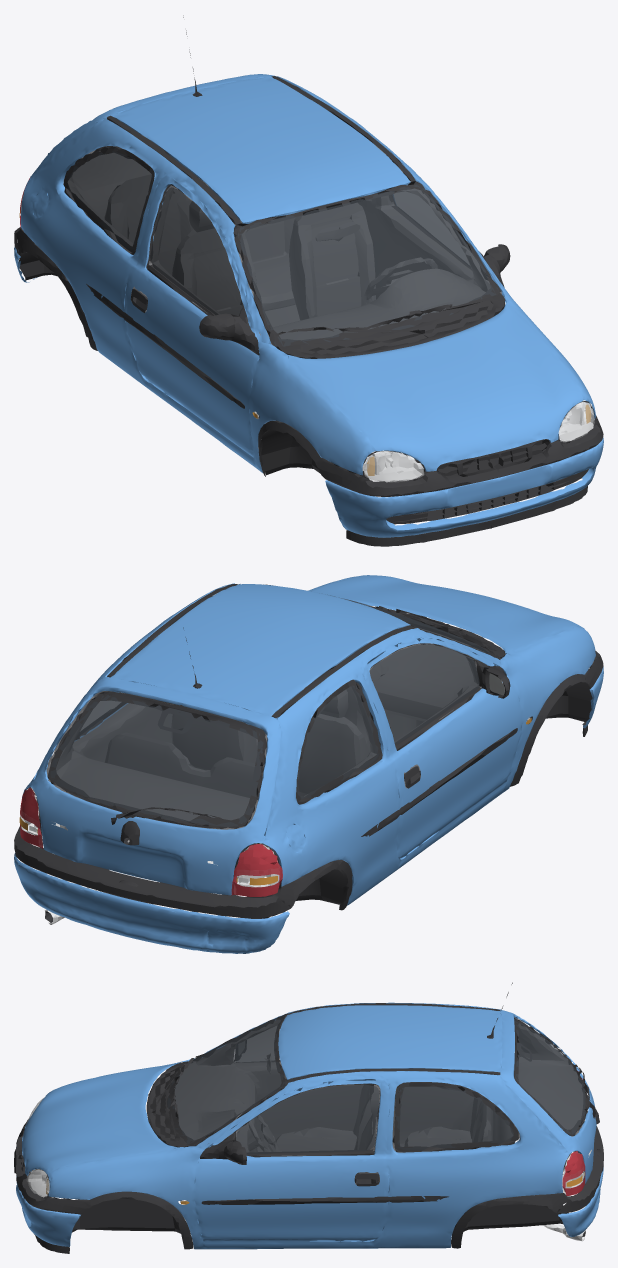
File: corsa.glb
3 views of the same model, one above another, from view 1: azimuth 30°, elevation 25°; view 2: azimuth 150°, elevation 25°; view 3: azimuth 270°, elevation 25° (orthographic). The views are drawn at different scales.
Parts seen in each view (by area): view 1: PAINT, GLASS, interior, black, LUZ_glass, chrome; view 2: PAINT, GLASS, interior, black, TAIL, chrome; view 3: PAINT, GLASS, interior, black, chrome, TAIL, LUZ_glass.
Part boxes in pixels (box(x1,y1,x2,y2)): PAINT: box(14, 74, 603, 537); GLASS: box(67, 145, 498, 346); interior: box(63, 135, 501, 423); black: box(14, 15, 603, 546); LUZ_glass: box(363, 401, 594, 482); chrome: box(21, 195, 593, 481); PAINT: box(14, 575, 603, 953); GLASS: box(50, 595, 497, 826); interior: box(46, 628, 483, 863); black: box(14, 584, 603, 922); TAIL: box(20, 787, 282, 896); chrome: box(21, 717, 530, 924); PAINT: box(16, 1002, 603, 1249); GLASS: box(167, 1015, 585, 1154); interior: box(174, 1017, 587, 1184); black: box(14, 982, 603, 1253); chrome: box(28, 1095, 599, 1241); TAIL: box(562, 1070, 585, 1195); LUZ_glass: box(26, 1097, 584, 1196).
Bounding box in the file's own units: 1.76 × 1.57 × 3.7.
